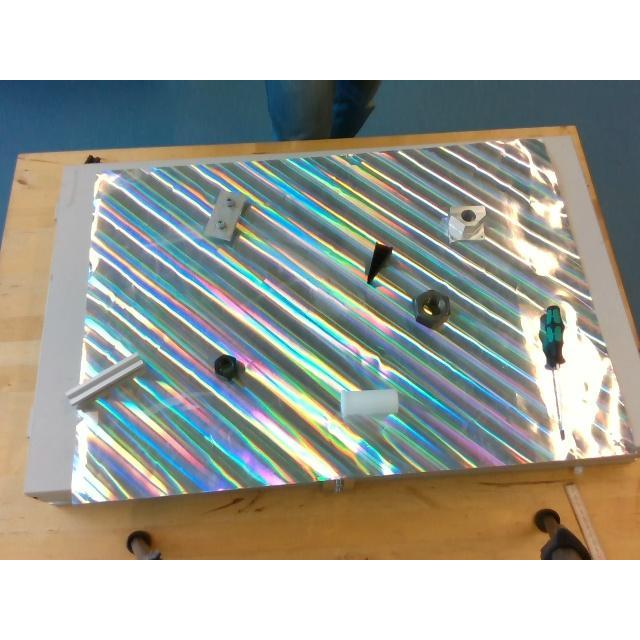F20_20_G: (66, 354, 146, 406)
M20: (213, 354, 241, 378)
M30: (414, 290, 451, 326)
Screwdriver: (542, 304, 570, 440)
Spacer: (338, 388, 398, 416)
